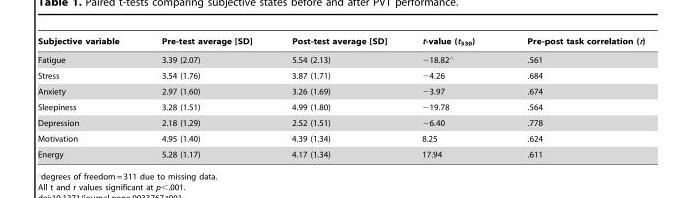table: (37, 36, 644, 158)
table column: (500, 36, 644, 158), (139, 36, 271, 158), (271, 36, 403, 158), (37, 36, 139, 158), (403, 36, 500, 158)
table column header: (37, 36, 644, 50)
table row: (37, 50, 644, 67), (37, 67, 644, 83), (37, 83, 644, 99), (37, 114, 644, 130), (37, 130, 644, 146), (37, 99, 644, 114), (37, 36, 644, 50), (37, 146, 644, 158)
